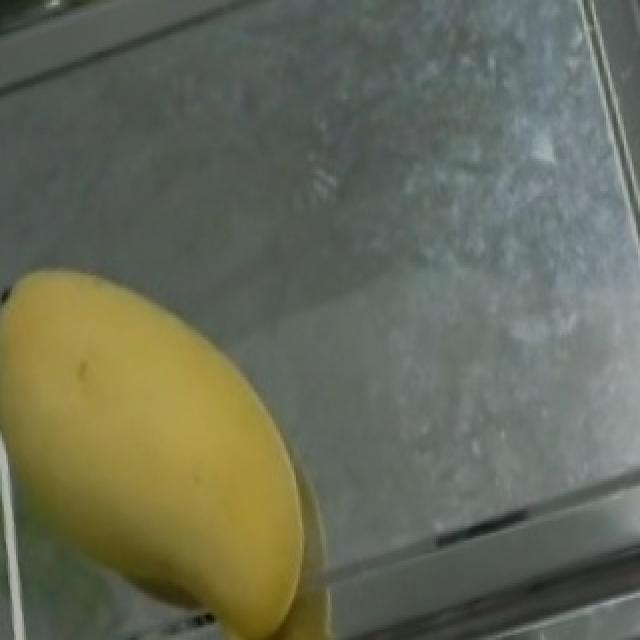fruit: (0, 216, 382, 640)
